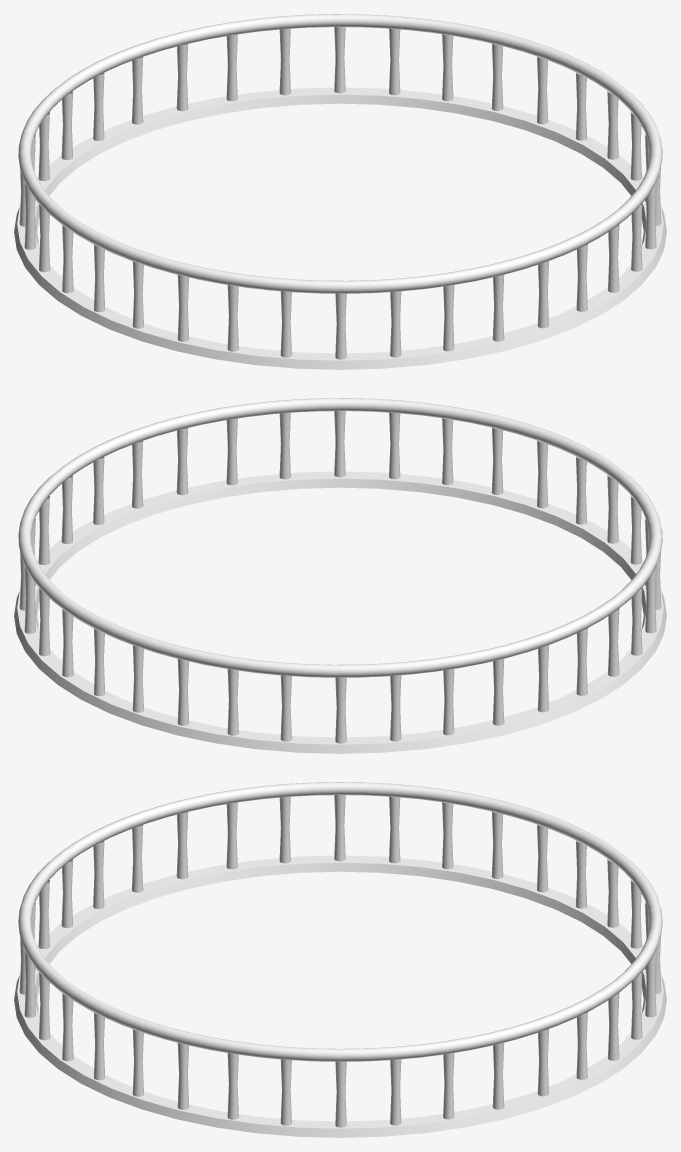
File: Zabor.FBX
3 renders of one model, top to bottom at view 1: azimuth 30°, elevation 25°; view 2: azimuth 150°, elevation 25°; view 3: azimuth 270°, elevation 25°, orthographic.
Parts seen in each view (by area): view 1: Zabor; view 2: Zabor; view 3: Zabor.
Part boxes in pixels (x1,y1,x2,y2): Zabor: (14,14,666,369); Zabor: (14,398,666,753); Zabor: (14,782,666,1137).
Bounding box in the file's own units: 151 × 151 × 21.32.
